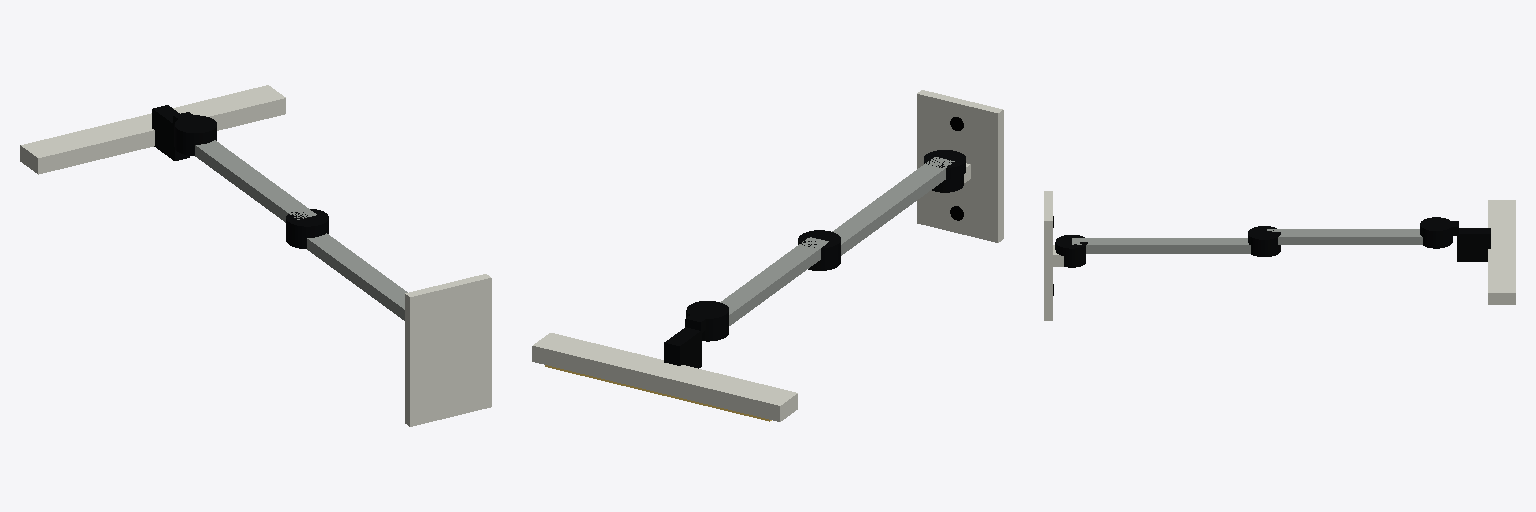
The robot description file, URDF, robot "under_cabinet_led_folding_arm":
<robot name="under_cabinet_led_folding_arm">
  <material name="powder_coated_white">
    <color rgba="0.86 0.86 0.82 1" />
    </material>
  <material name="brushed_aluminum">
    <color rgba="0.62 0.64 0.62 1" />
    </material>
  <material name="dark_hinge_hardware">
    <color rgba="0.06 0.065 0.07 1" />
    </material>
  <material name="warm_led_diffuser">
    <color rgba="1 0.86 0.46 0.78" />
    </material>
  <material name="recessed_screw_shadow">
    <color rgba="0.025 0.025 0.025 1" />
    </material>
  <link name="wall_bracket">
    <visual name="mount_plate">
      <origin xyz="0 -0.034 0" rpy="0 0 0" />
      <geometry>
        <box size="0.105 0.012 0.16" />
        </geometry>
      <material name="powder_coated_white">
        <color rgba="0.86 0.86 0.82 1" />
        </material>
      </visual>
    <visual name="boss_standoff">
      <origin xyz="0 -0.015 0" rpy="0 0 0" />
      <geometry>
        <box size="0.034 0.03 0.018" />
        </geometry>
      <material name="powder_coated_white">
        <color rgba="0.86 0.86 0.82 1" />
        </material>
      </visual>
    <visual name="pivot_boss">
      <geometry>
        <cylinder radius="0.021" length="0.018" />
        </geometry>
      <material name="dark_hinge_hardware">
        <color rgba="0.06 0.065 0.07 1" />
        </material>
      </visual>
    <visual name="upper_screw">
      <origin xyz="0 -0.0272 0.055" rpy="1.5708 0 0" />
      <geometry>
        <cylinder radius="0.0085" length="0.002" />
        </geometry>
      <material name="recessed_screw_shadow">
        <color rgba="0.025 0.025 0.025 1" />
        </material>
      </visual>
    <visual name="lower_screw">
      <origin xyz="0 -0.0272 -0.055" rpy="1.5708 0 0" />
      <geometry>
        <cylinder radius="0.0085" length="0.002" />
        </geometry>
      <material name="recessed_screw_shadow">
        <color rgba="0.025 0.025 0.025 1" />
        </material>
      </visual>
    </link>
  <link name="link_1">
    <visual name="arm_blade">
      <origin xyz="0 0.14 0.016" rpy="0 0 0" />
      <geometry>
        <box size="0.026 0.28 0.014" />
        </geometry>
      <material name="brushed_aluminum">
        <color rgba="0.62 0.64 0.62 1" />
        </material>
      </visual>
    <visual name="base_hub">
      <origin xyz="0 0 0.016" rpy="0 0 0" />
      <geometry>
        <cylinder radius="0.024" length="0.014" />
        </geometry>
      <material name="dark_hinge_hardware">
        <color rgba="0.06 0.065 0.07 1" />
        </material>
      </visual>
    <visual name="distal_hub">
      <origin xyz="0 0.28 0.016" rpy="0 0 0" />
      <geometry>
        <cylinder radius="0.024" length="0.014" />
        </geometry>
      <material name="dark_hinge_hardware">
        <color rgba="0.06 0.065 0.07 1" />
        </material>
      </visual>
    </link>
  <link name="link_2">
    <visual name="arm_blade">
      <origin xyz="0 0.125 0.03" rpy="0 0 0" />
      <geometry>
        <box size="0.026 0.25 0.014" />
        </geometry>
      <material name="brushed_aluminum">
        <color rgba="0.62 0.64 0.62 1" />
        </material>
      </visual>
    <visual name="proximal_hub">
      <origin xyz="0 0 0.03" rpy="0 0 0" />
      <geometry>
        <cylinder radius="0.024" length="0.014" />
        </geometry>
      <material name="dark_hinge_hardware">
        <color rgba="0.06 0.065 0.07 1" />
        </material>
      </visual>
    <visual name="terminal_hub">
      <origin xyz="0 0.25 0.03" rpy="0 0 0" />
      <geometry>
        <cylinder radius="0.024" length="0.014" />
        </geometry>
      <material name="dark_hinge_hardware">
        <color rgba="0.06 0.065 0.07 1" />
        </material>
      </visual>
    </link>
  <link name="led_bar">
    <visual name="pivot_cap">
      <origin xyz="0 0 0.044" rpy="0 0 0" />
      <geometry>
        <cylinder radius="0.024" length="0.014" />
        </geometry>
      <material name="dark_hinge_hardware">
        <color rgba="0.06 0.065 0.07 1" />
        </material>
      </visual>
    <visual name="front_lug">
      <origin xyz="0 0.024 0.044" rpy="0 0 0" />
      <geometry>
        <box size="0.02 0.018 0.014" />
        </geometry>
      <material name="dark_hinge_hardware">
        <color rgba="0.06 0.065 0.07 1" />
        </material>
      </visual>
    <visual name="drop_yoke">
      <origin xyz="0 0.055 0.018" rpy="0 0 0" />
      <geometry>
        <box size="0.02 0.05 0.045" />
        </geometry>
      <material name="dark_hinge_hardware">
        <color rgba="0.06 0.065 0.07 1" />
        </material>
      </visual>
    <visual name="light_housing">
      <origin xyz="0 0.095 0.006" rpy="0 0 0" />
      <geometry>
        <box size="0.32 0.04 0.02" />
        </geometry>
      <material name="powder_coated_white">
        <color rgba="0.86 0.86 0.82 1" />
        </material>
      </visual>
    <visual name="led_diffuser">
      <origin xyz="0 0.1 -0.0058" rpy="0 0 0" />
      <geometry>
        <box size="0.29 0.025 0.004" />
        </geometry>
      <material name="warm_led_diffuser">
        <color rgba="1 0.86 0.46 0.78" />
        </material>
      </visual>
    <visual name="led_chip_0">
      <origin xyz="-0.105 0.1 -0.0087" rpy="0 0 0" />
      <geometry>
        <box size="0.018 0.018 0.002" />
        </geometry>
      <material name="warm_led_diffuser">
        <color rgba="1 0.86 0.46 0.78" />
        </material>
      </visual>
    <visual name="led_chip_1">
      <origin xyz="-0.0525 0.1 -0.0087" rpy="0 0 0" />
      <geometry>
        <box size="0.018 0.018 0.002" />
        </geometry>
      <material name="warm_led_diffuser">
        <color rgba="1 0.86 0.46 0.78" />
        </material>
      </visual>
    <visual name="led_chip_2">
      <origin xyz="0 0.1 -0.0087" rpy="0 0 0" />
      <geometry>
        <box size="0.018 0.018 0.002" />
        </geometry>
      <material name="warm_led_diffuser">
        <color rgba="1 0.86 0.46 0.78" />
        </material>
      </visual>
    <visual name="led_chip_3">
      <origin xyz="0.0525 0.1 -0.0087" rpy="0 0 0" />
      <geometry>
        <box size="0.018 0.018 0.002" />
        </geometry>
      <material name="warm_led_diffuser">
        <color rgba="1 0.86 0.46 0.78" />
        </material>
      </visual>
    <visual name="led_chip_4">
      <origin xyz="0.105 0.1 -0.0087" rpy="0 0 0" />
      <geometry>
        <box size="0.018 0.018 0.002" />
        </geometry>
      <material name="warm_led_diffuser">
        <color rgba="1 0.86 0.46 0.78" />
        </material>
      </visual>
    </link>
  <joint name="base_yaw" type="revolute">
    <parent link="wall_bracket" />
    <child link="link_1" />
    <axis xyz="0 0 1" />
    <limit effort="5" velocity="2" lower="-1.25" upper="1.25" />
    </joint>
  <joint name="elbow_yaw" type="revolute">
    <origin xyz="0 0.28 0" rpy="0 0 0" />
    <parent link="link_1" />
    <child link="link_2" />
    <axis xyz="0 0 1" />
    <limit effort="4" velocity="2" lower="-2.35" upper="2.35" />
    </joint>
  <joint name="bar_yaw" type="revolute">
    <origin xyz="0 0.25 0" rpy="0 0 0" />
    <parent link="link_2" />
    <child link="led_bar" />
    <axis xyz="0 0 1" />
    <limit effort="2.5" velocity="2.5" lower="-1.8" upper="1.8" />
    </joint>
  </robot>

--- What the picture shows (computed from the rendered views, not written in the file) ---
3 views of the same robot in one strip: view 1: azimuth 30°, elevation 25°; view 2: azimuth 150°, elevation 25°; view 3: azimuth 270°, elevation 25° (orthographic).
Model under_cabinet_led_folding_arm with 4 links and 3 joints (3 revolute), rooted at wall_bracket, posed every joint at zero.
Visible links, largest first — view 1: wall_bracket, led_bar, link_2, link_1; view 2: led_bar, wall_bracket, link_1, link_2; view 3: led_bar, link_1, link_2, wall_bracket.
Boxes of the visible links, x1,y1,x2,y2 form: wall_bracket: [405, 274, 491, 426]; led_bar: [20, 85, 285, 174]; link_2: [174, 136, 328, 237]; link_1: [286, 230, 407, 320]; led_bar: [532, 301, 797, 421]; wall_bracket: [917, 90, 1003, 242]; link_1: [808, 150, 965, 270]; link_2: [702, 230, 840, 341]; led_bar: [1420, 200, 1515, 304]; link_1: [1055, 235, 1280, 256]; link_2: [1248, 226, 1452, 248]; wall_bracket: [1044, 191, 1085, 320].
Bounding box of the posed robot: 0.32 × 0.685 × 0.16 m (x, y, z).
Geometry: primitives only (box / cylinder / sphere), no mesh files.
